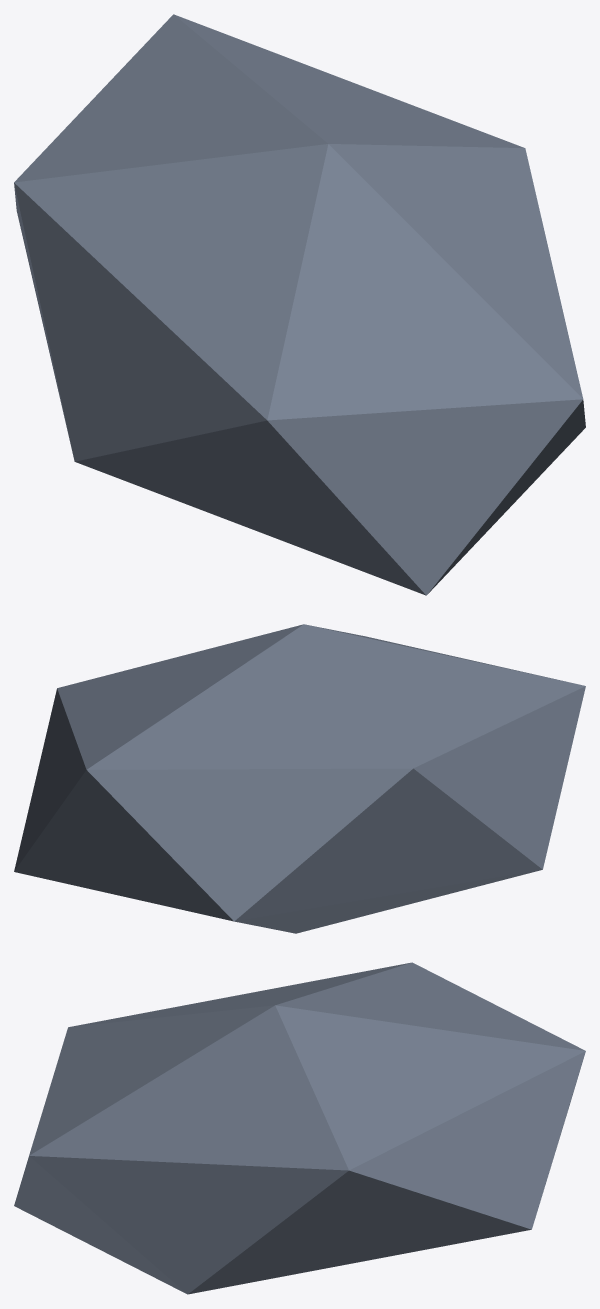
Rendered from EXTG_BranchStone_05.glb.
The picture shows the model from 3 angles, top to bottom: view 1: azimuth 30°, elevation 25°; view 2: azimuth 150°, elevation 25°; view 3: azimuth 270°, elevation 25°; orthographic projection. The views are drawn at different scales.
Visible parts, largest first — view 1: EXTG_BranchStone_05; view 2: EXTG_BranchStone_05; view 3: EXTG_BranchStone_05.
Boxes of the visible parts, left/top/right/bottom form: EXTG_BranchStone_05: left=14, top=14, right=585, bottom=595; EXTG_BranchStone_05: left=14, top=624, right=585, bottom=933; EXTG_BranchStone_05: left=14, top=962, right=585, bottom=1294.
Bounding box in the file's own units: 0.8101 × 0.5108 × 1.04.
